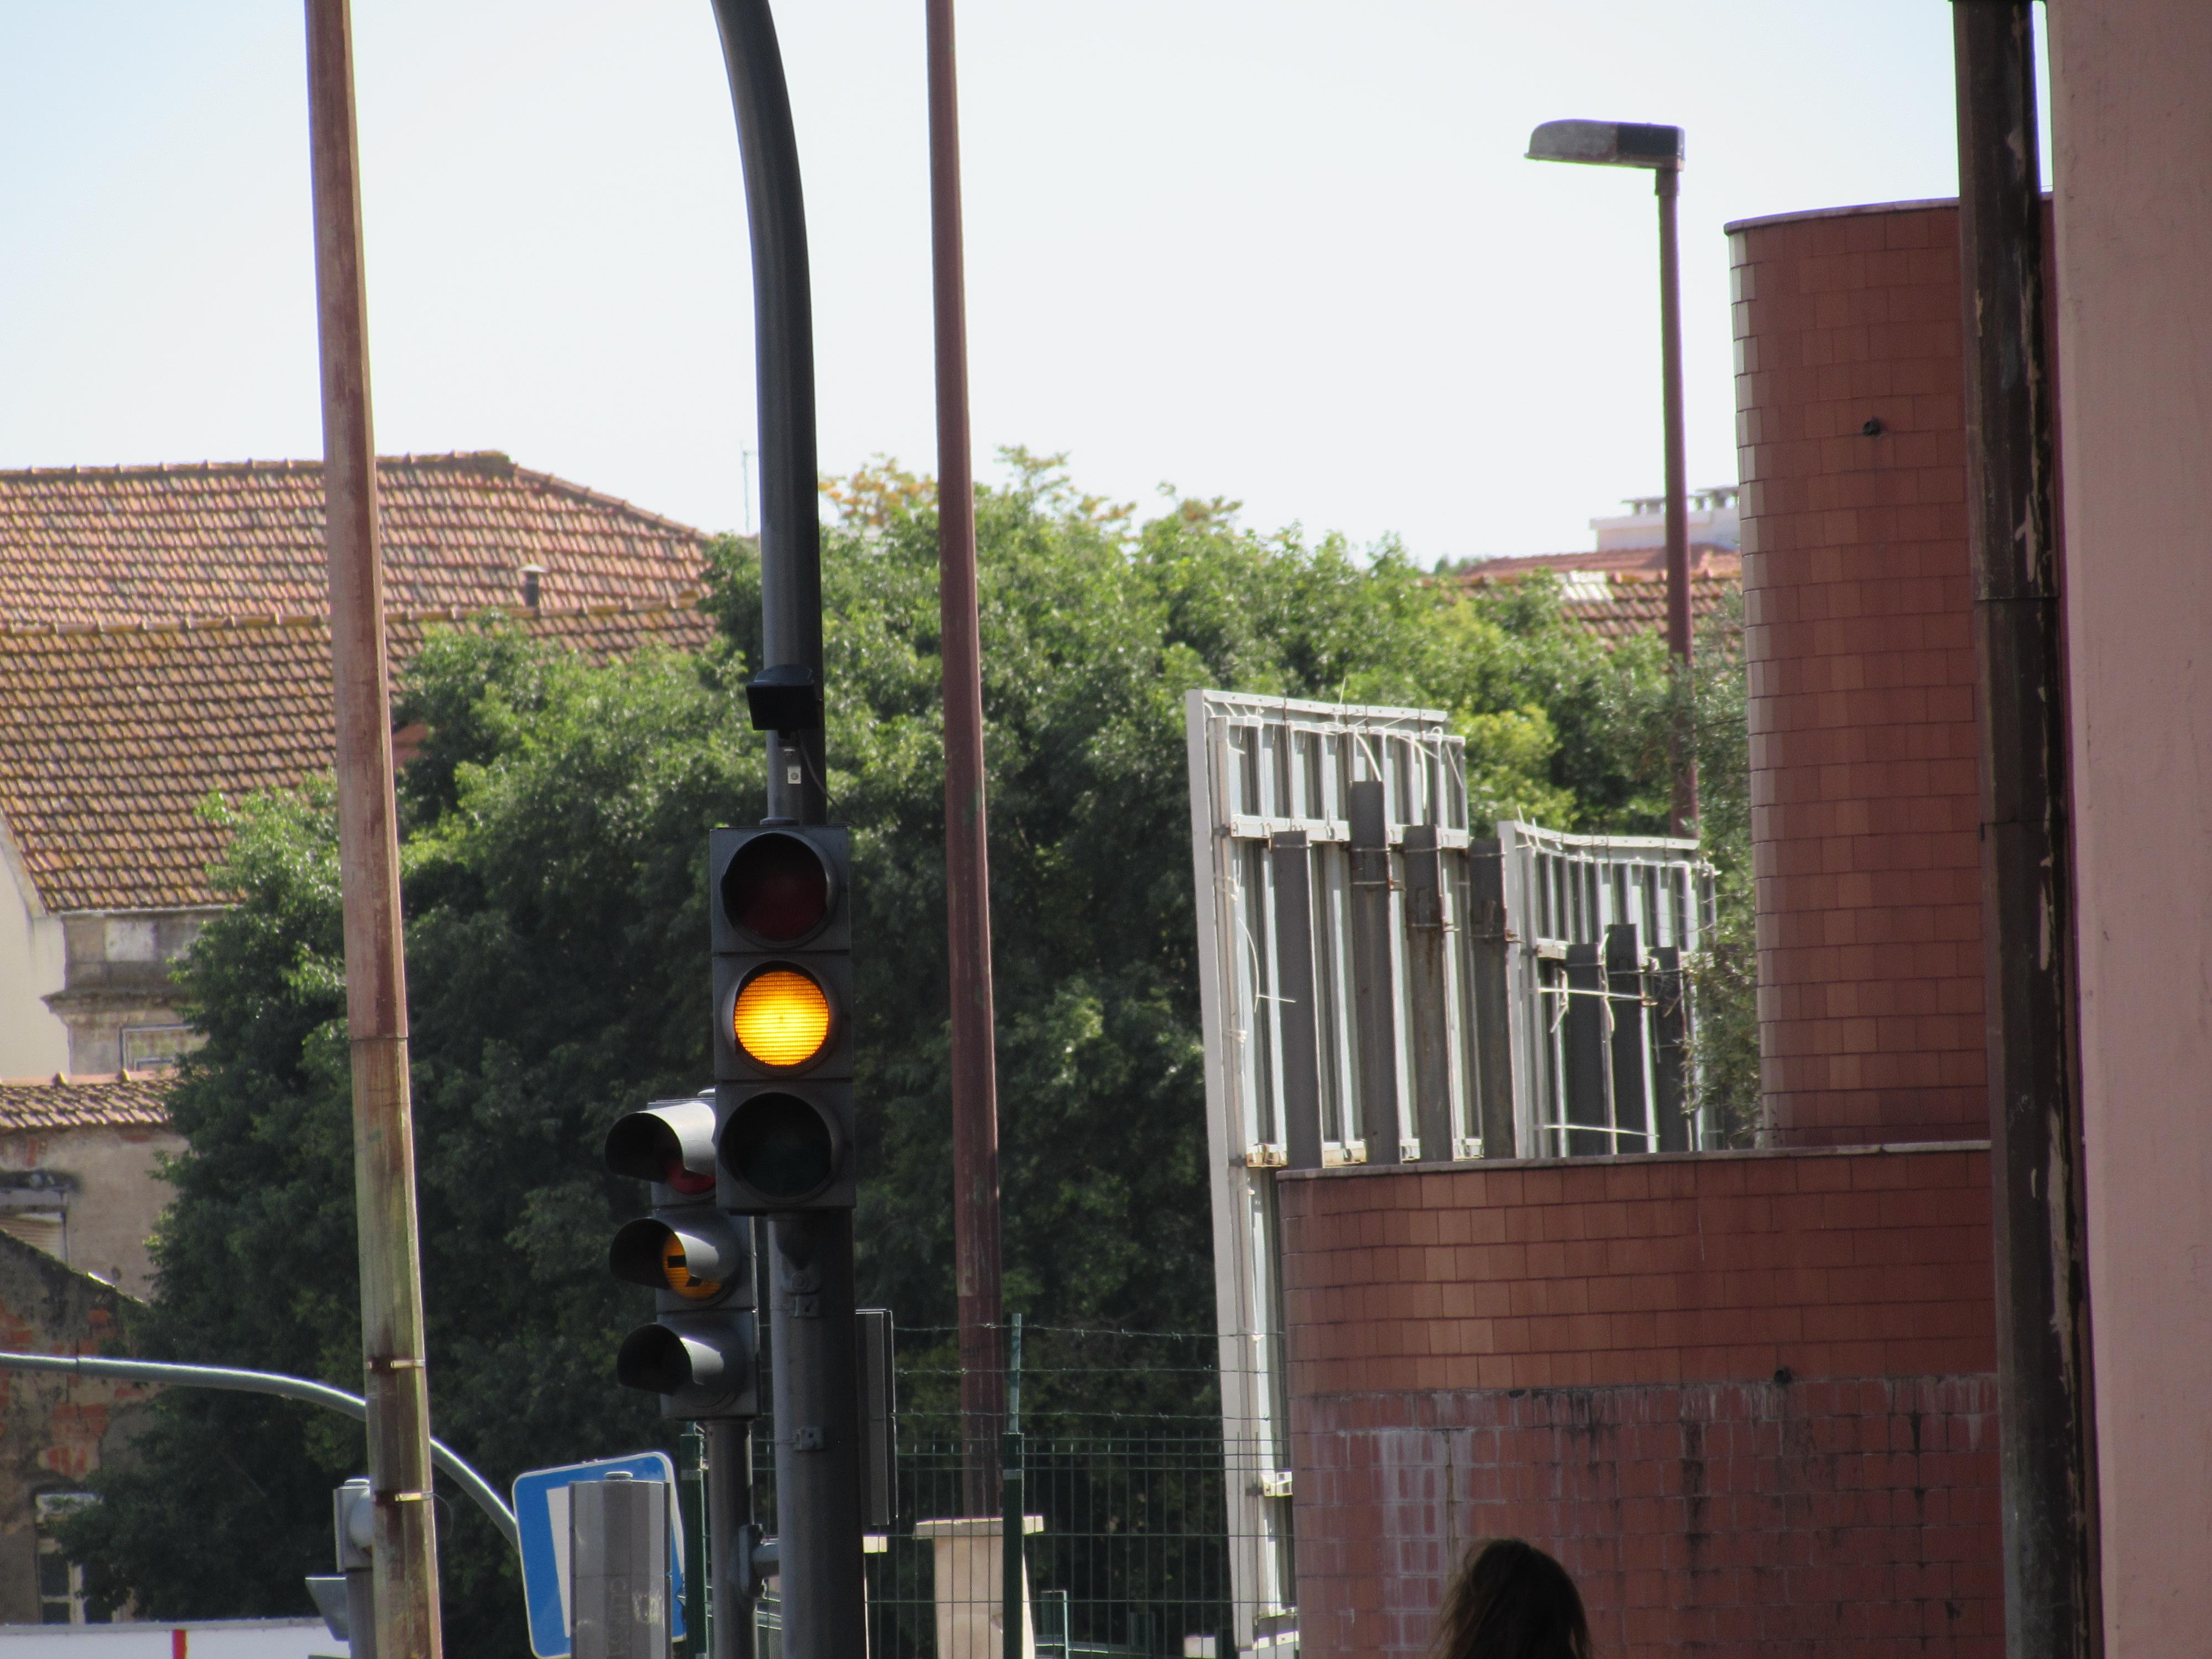yellow_light: (707, 824, 859, 1208), (604, 1098, 761, 1419)
